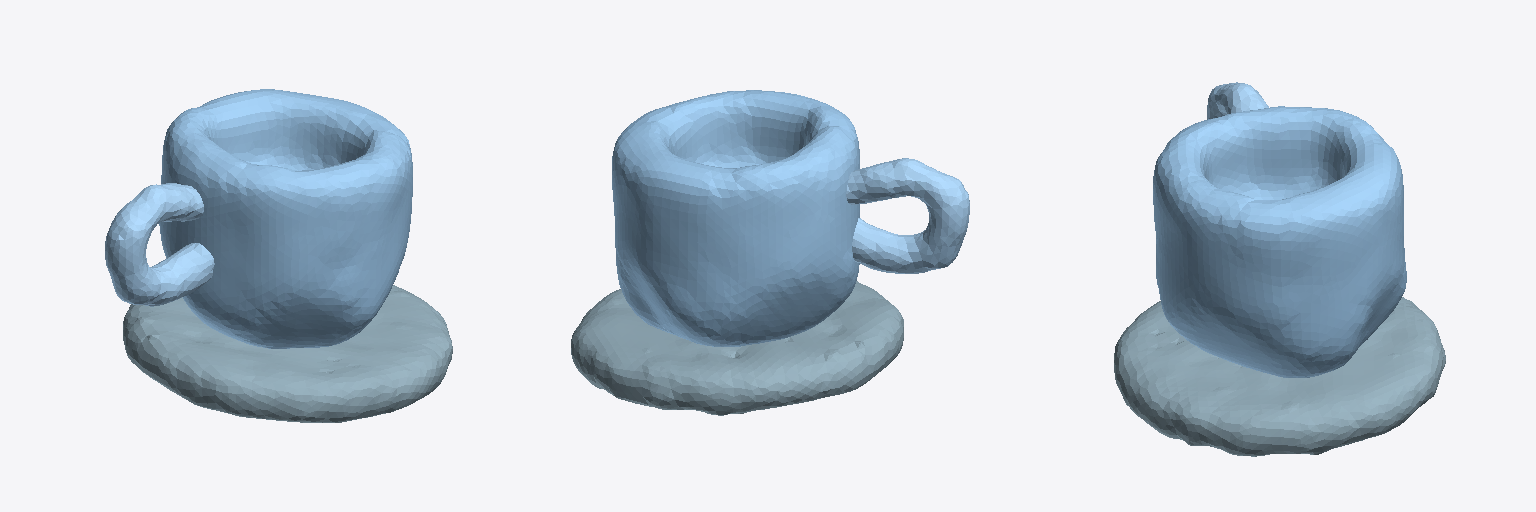
Rendered from cup3.obj.
The picture shows the model from 3 angles: view 1: azimuth 30°, elevation 25°; view 2: azimuth 150°, elevation 25°; view 3: azimuth 270°, elevation 25°; orthographic projection.
Size of the model in its own units: 0.6038 by 0.4112 by 0.5003.